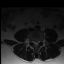CCS_normal: (35, 38, 37, 48)
LFS_normal: (39, 37, 41, 45)
LLS_normal: (37, 38, 39, 47)
RFS_normal: (31, 38, 33, 44)
RLS_normal: (33, 38, 35, 46)
